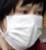with_mask: (1, 2, 46, 50)
